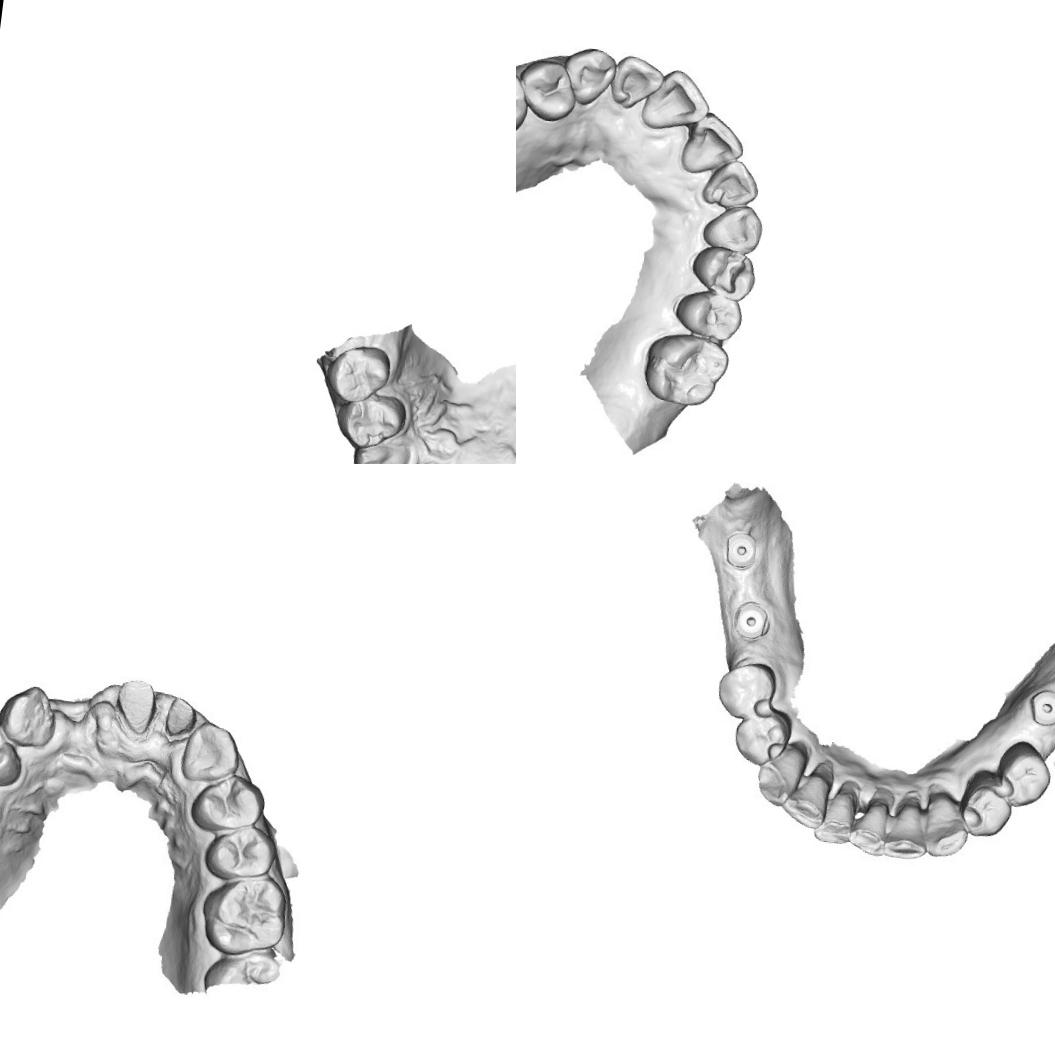canine: (560, 42, 622, 114), (176, 717, 240, 786), (0, 682, 61, 751), (752, 740, 808, 812), (698, 200, 767, 256), (921, 790, 970, 859), (346, 439, 411, 464)
crown: (110, 668, 162, 741), (158, 695, 204, 745)
implant: (712, 525, 767, 582), (728, 595, 772, 644), (1022, 681, 1055, 728)
incisor: (674, 108, 747, 181), (640, 68, 716, 136), (698, 155, 766, 214), (881, 792, 930, 868), (812, 776, 859, 848), (611, 51, 667, 111), (847, 786, 893, 858), (786, 760, 834, 829)
inlay: (707, 252, 749, 299)
molar: (639, 325, 733, 416), (198, 870, 290, 961)
premolar: (198, 818, 284, 884), (332, 388, 410, 456), (186, 767, 264, 834), (322, 340, 396, 409), (708, 659, 780, 722), (517, 53, 577, 127), (672, 286, 748, 344), (954, 772, 1014, 840), (994, 740, 1054, 806), (727, 710, 790, 764), (0, 718, 29, 790), (516, 65, 532, 141)
